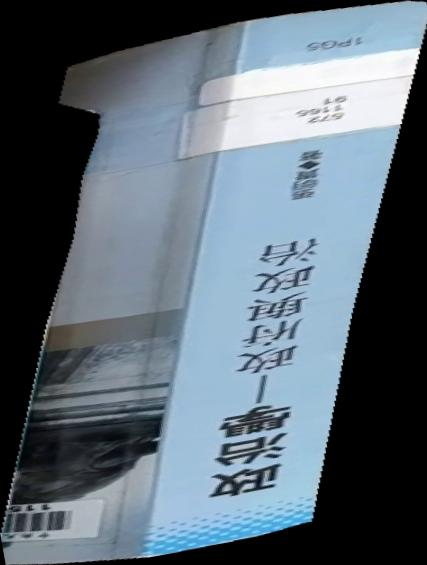reverse: (1, 1, 427, 565)
